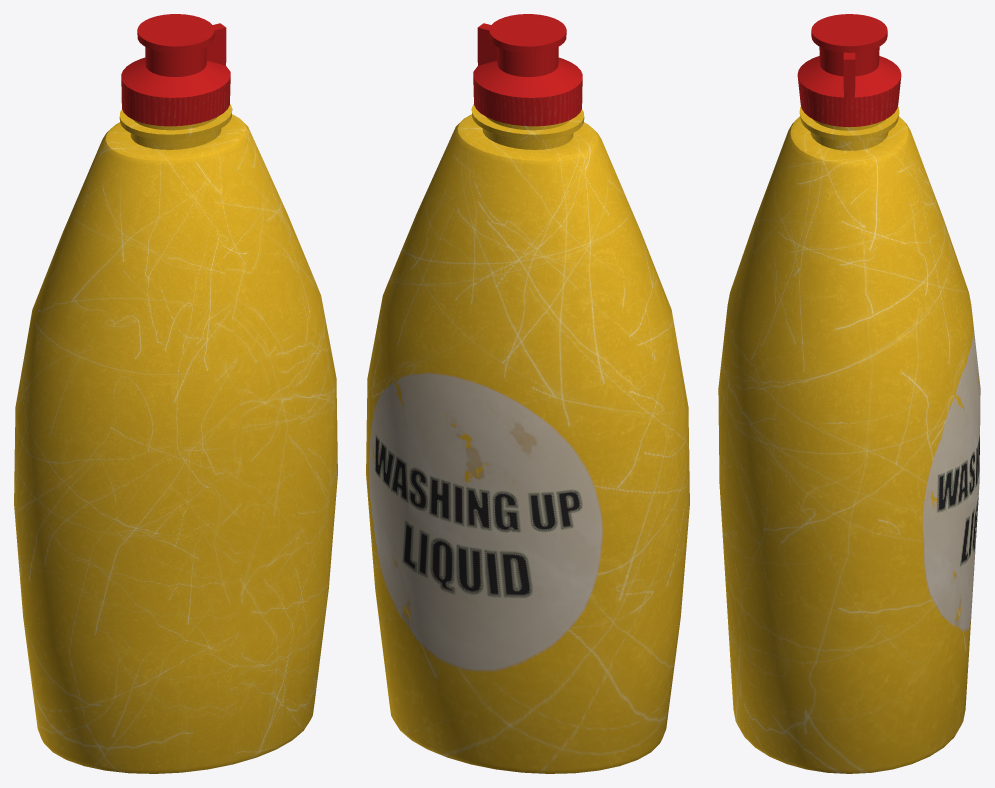
The model's file is WashUpLiquid.fbx.
The picture shows the model from 3 angles, left to right: view 1: azimuth 30°, elevation 25°; view 2: azimuth 150°, elevation 25°; view 3: azimuth 270°, elevation 25°; orthographic projection.
Parts seen in each view (by area): view 1: Bottle; view 2: Bottle; view 3: Bottle.
Part boxes in pixels (bbox=[...]): Bottle: bbox=[14, 14, 337, 773]; Bottle: bbox=[366, 14, 689, 773]; Bottle: bbox=[718, 14, 980, 773].
Size of the model in its own units: 7.79 by 17.45 by 6.04.
